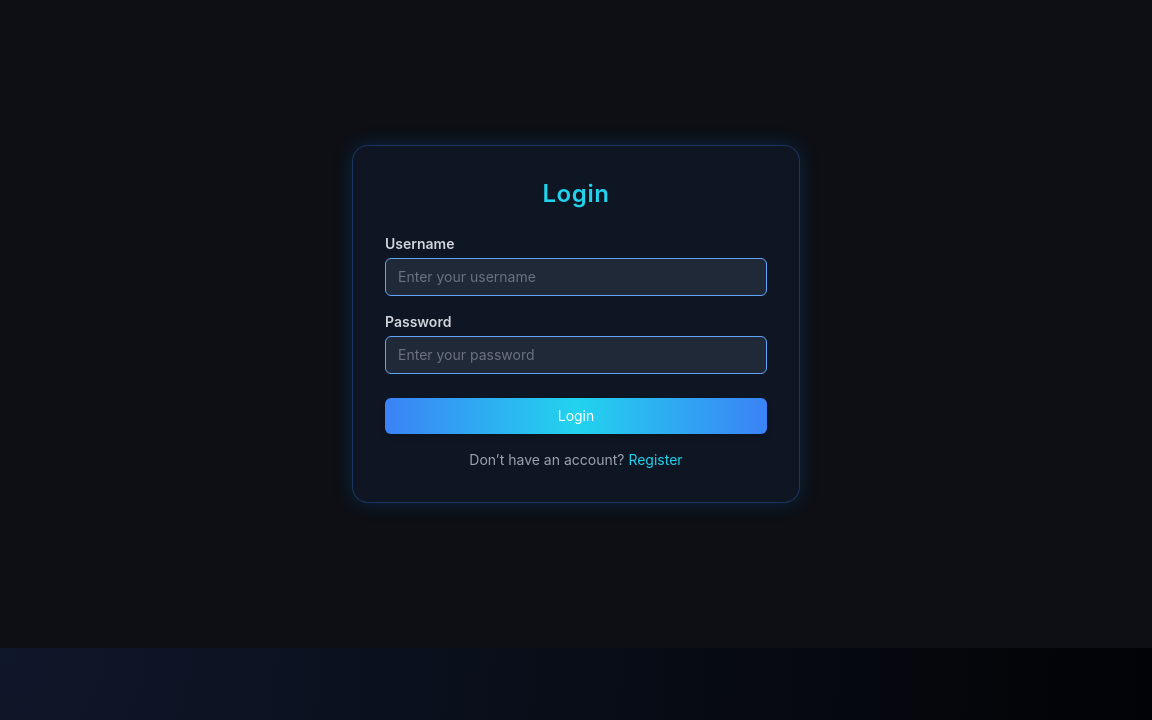
it: shows error if username or password is empty
What coordinates should you click on to do the following:
click the button "Login"
I would click on:
 (576, 416)
Its box is [385,398,767,434].
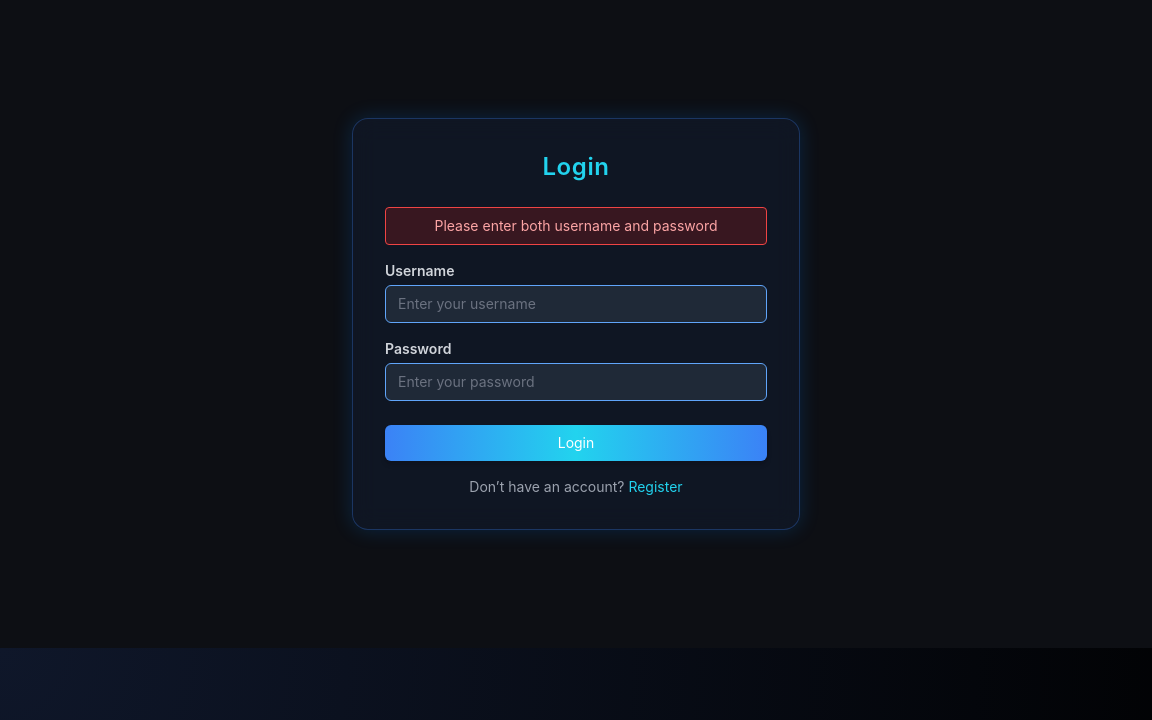
Expected: the text "Please enter both username and password" is shown, [385,207,767,245]
